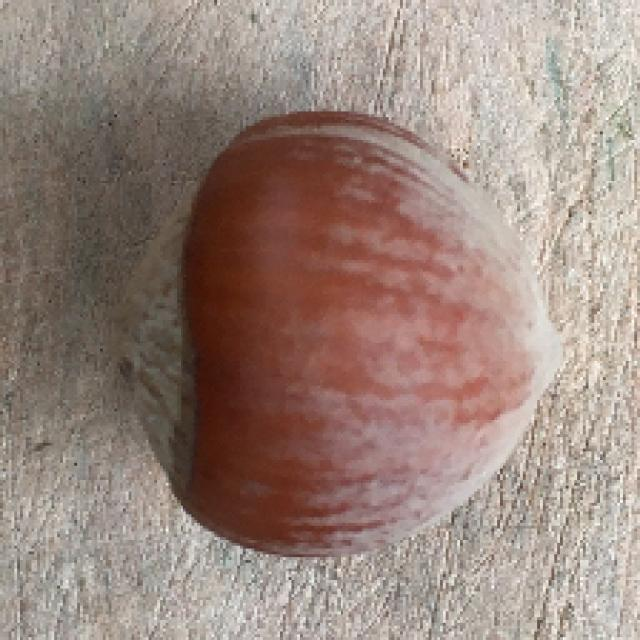hazelnut: (115, 104, 563, 564)
